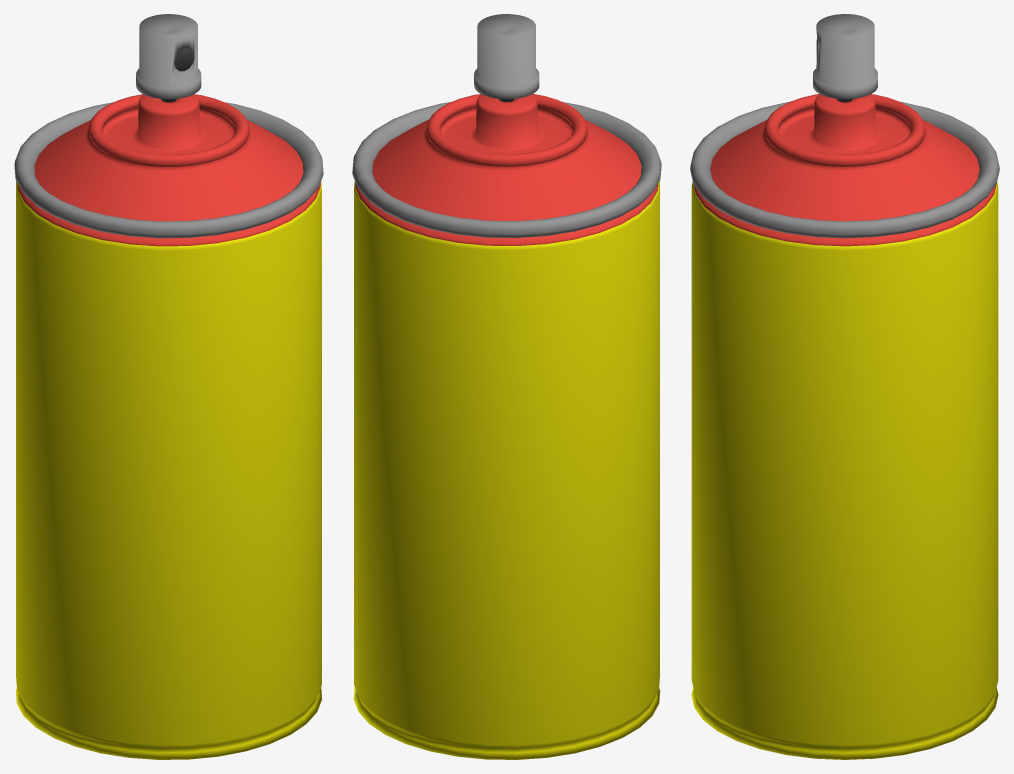
File: Can.fbx
3 renders of one model, left to right at view 1: azimuth 30°, elevation 25°; view 2: azimuth 150°, elevation 25°; view 3: azimuth 270°, elevation 25°, orthographic.
Parts seen in each view (by area): view 1: can; view 2: can; view 3: can.
Boxes of the visible parts, x1,y1,x2,y2 form: can: [14, 14, 323, 759]; can: [352, 14, 661, 759]; can: [690, 14, 999, 759].
Size of the model in its own units: 217 by 518 by 217.
